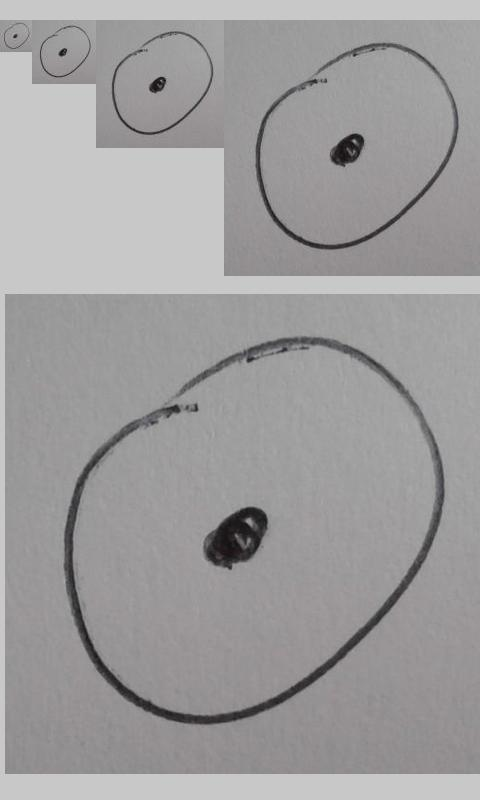radio_button: (62, 334, 446, 730), (255, 41, 459, 251), (110, 30, 216, 136), (39, 25, 92, 78), (3, 22, 30, 50)
